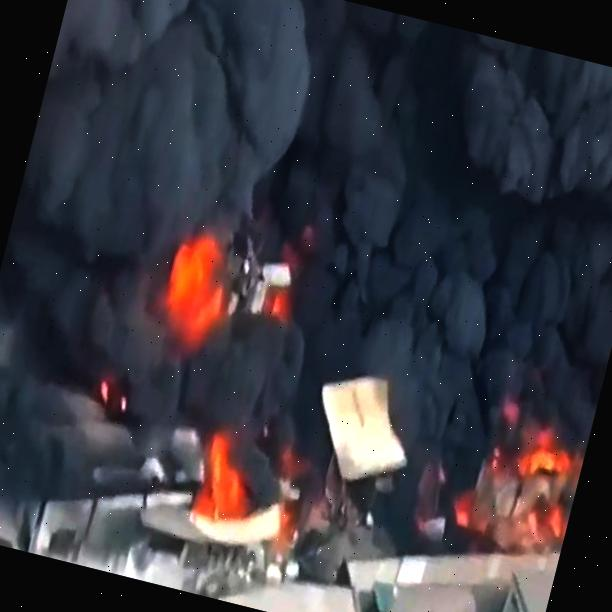smoke: (198, 0, 612, 337), (0, 0, 257, 528), (275, 283, 501, 556)
